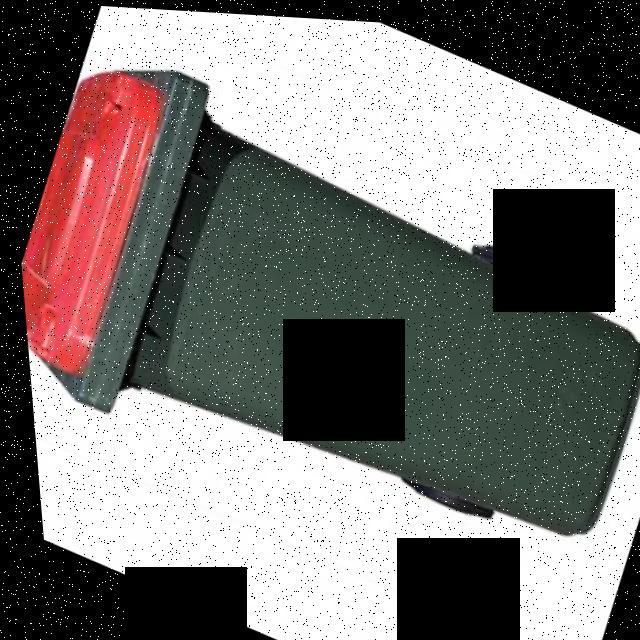bin: (1, 21, 640, 640)
